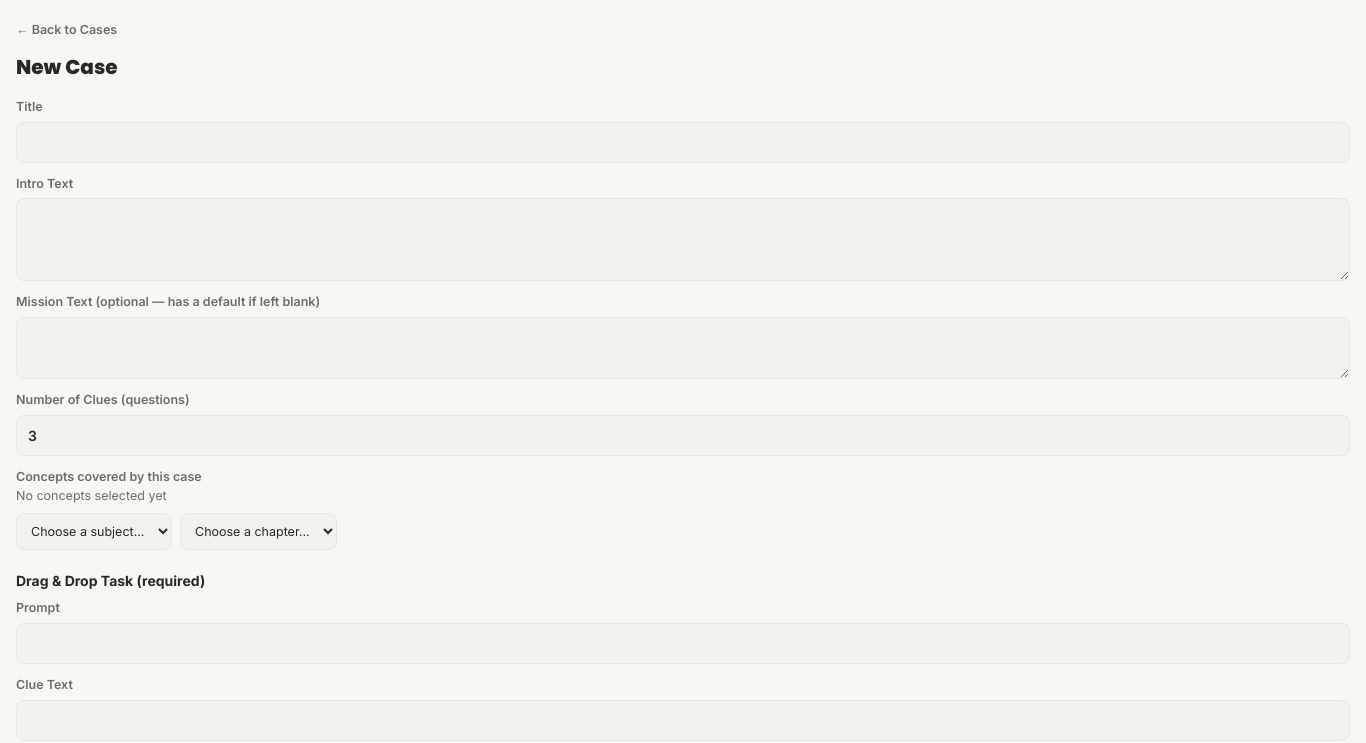
AdminCaseEditor › concept picker: choosing a subject fetches its chapters; choosing a chapter fetches its concepts
The width and height of the screenshot is (1366, 743).
Select "Biology (Grade 10)" in the 1st dropdown "Choose a subject...": (94, 532) [16,513,172,550]
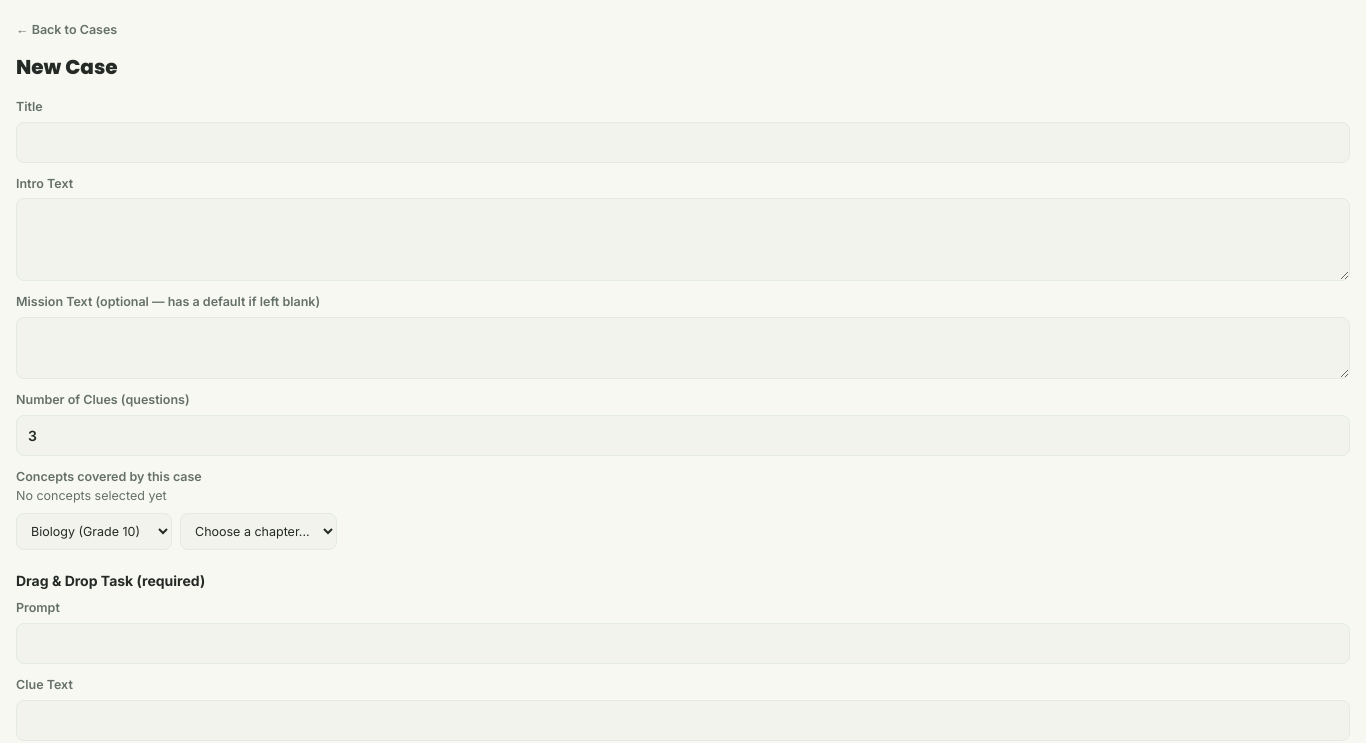
Select "The Human Eye" in the 2nd dropdown "Choose a chapter...": (258, 532) [180,513,337,550]
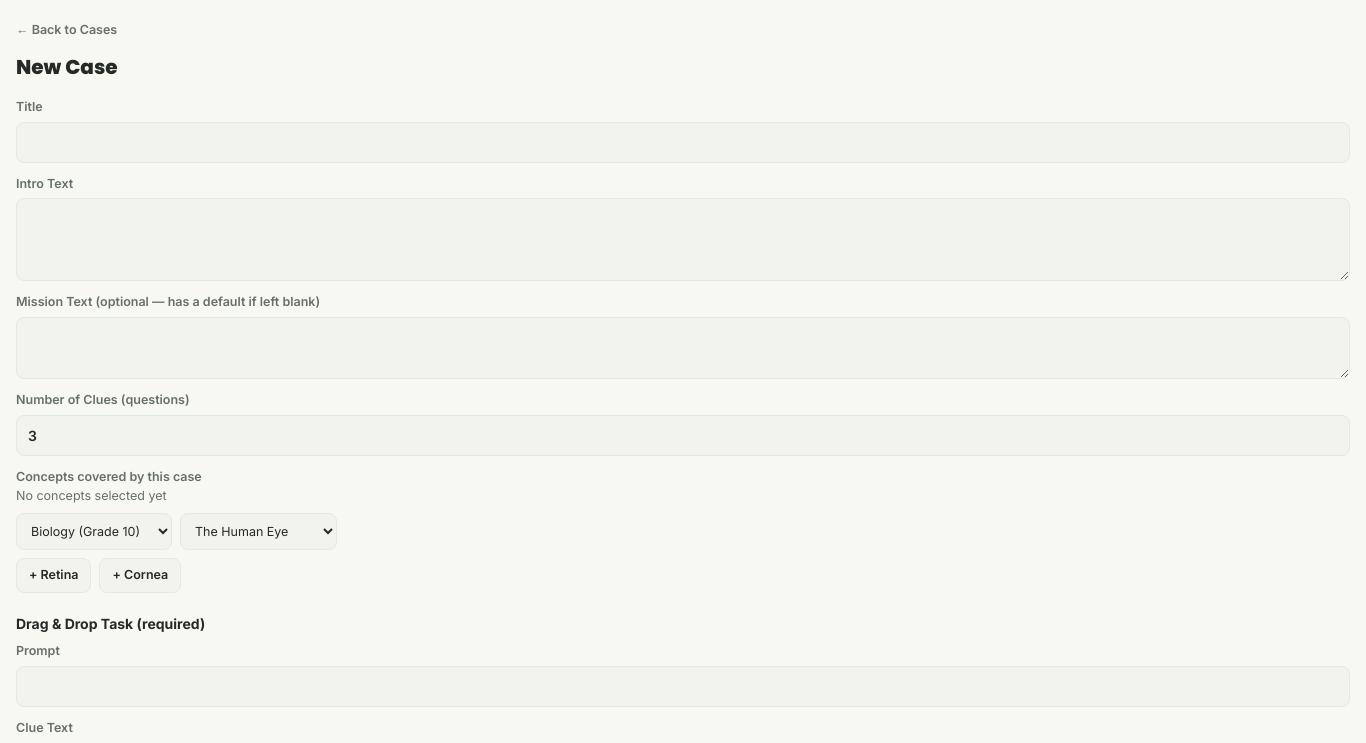
expect the button "+ Retina" is shown: met, box [16,558,92,593]
expect the button "+ Cornea" is shown: met, box [100,558,181,593]
